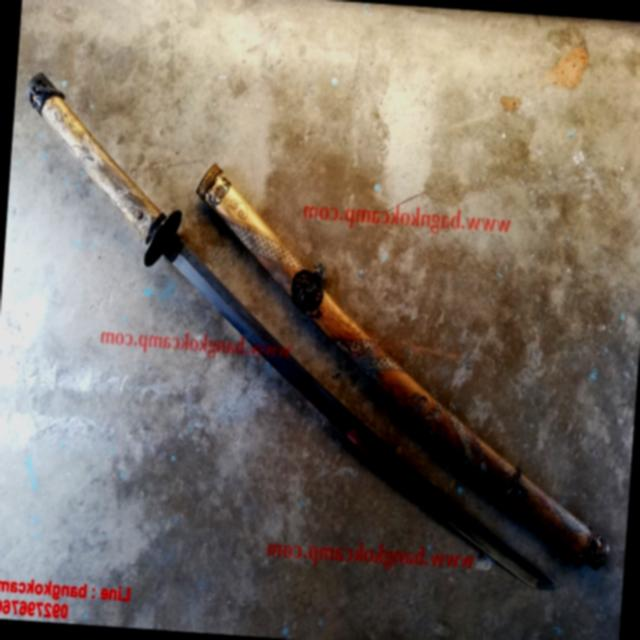long sword: (0, 62, 589, 598)
